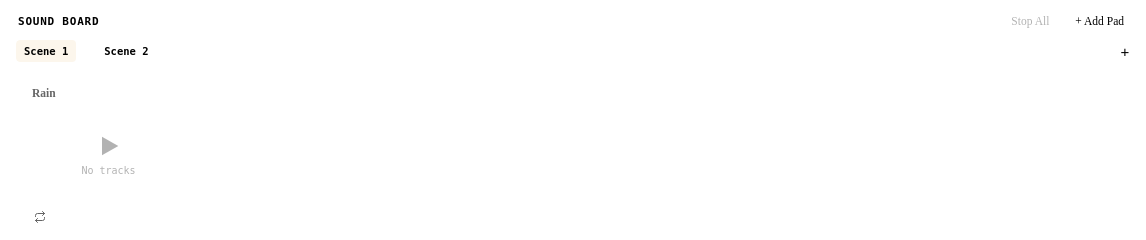
it: SoundBoard - scene management › only shows pads belonging to the active scene
Expected: the field showing "Rain" is shown, 28,85 -> 175,102
Expected: the field showing "Battle" is not shown
Click the button titled "Scene 2": (126, 51) 96,40 -> 157,62
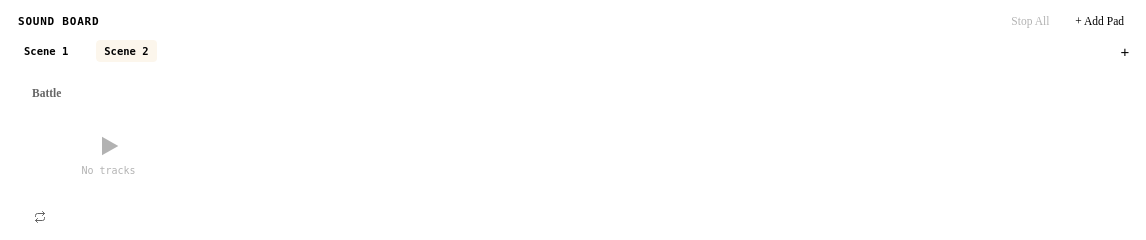
Expected: the field showing "Rain" is not shown
Now the field showing "Battle" is shown, box 28,85 -> 175,102
